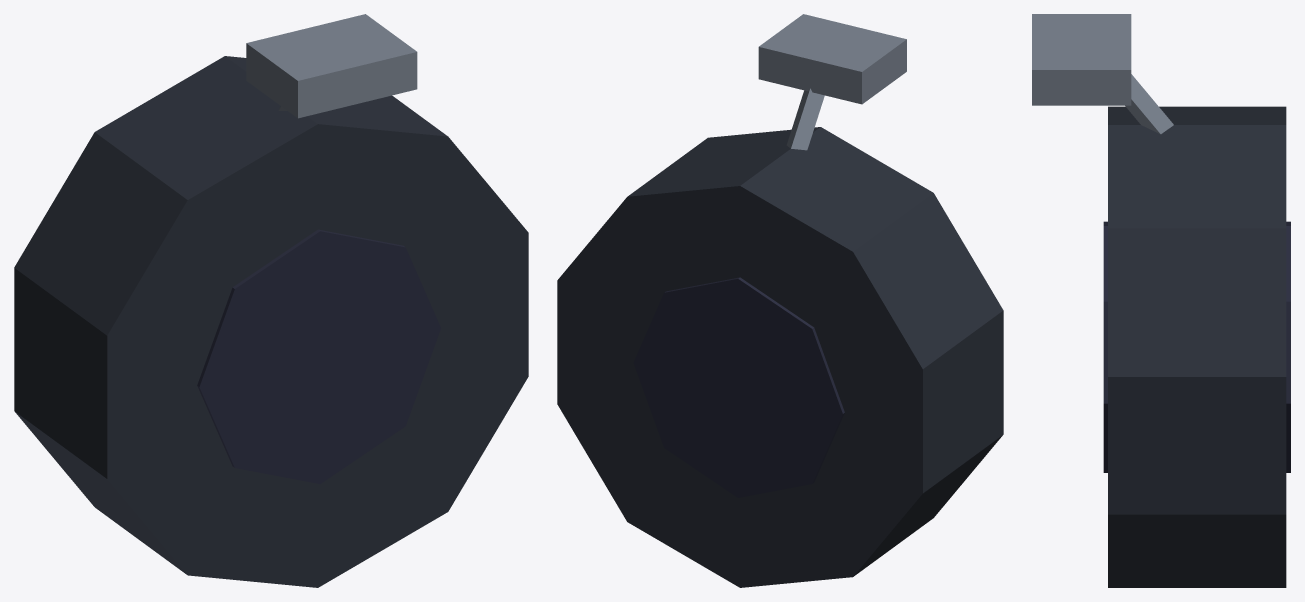
File: fender.glb
3 views of the same model, side by side, from view 1: azimuth 30°, elevation 25°; view 2: azimuth 150°, elevation 25°; view 3: azimuth 270°, elevation 25° (orthographic). The views are drawn at different scales.
Visible parts, largest first — view 1: fender; view 2: fender; view 3: fender.
Boxes of the visible parts, x1,y1,x2,y2 form: fender: [14, 14, 528, 587]; fender: [557, 14, 1003, 587]; fender: [1032, 14, 1290, 587].
Bounding box in the file's own units: 1.41 × 1.76 × 0.7835.
